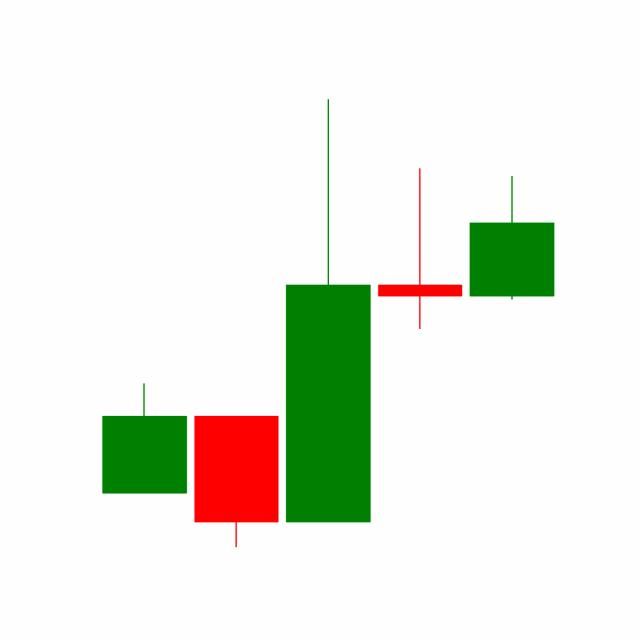Spinning Top: (373, 166, 467, 330)
